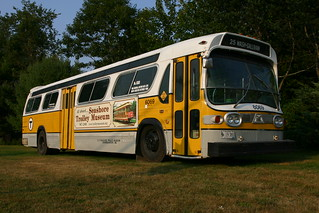bus: (21, 32, 293, 161)
